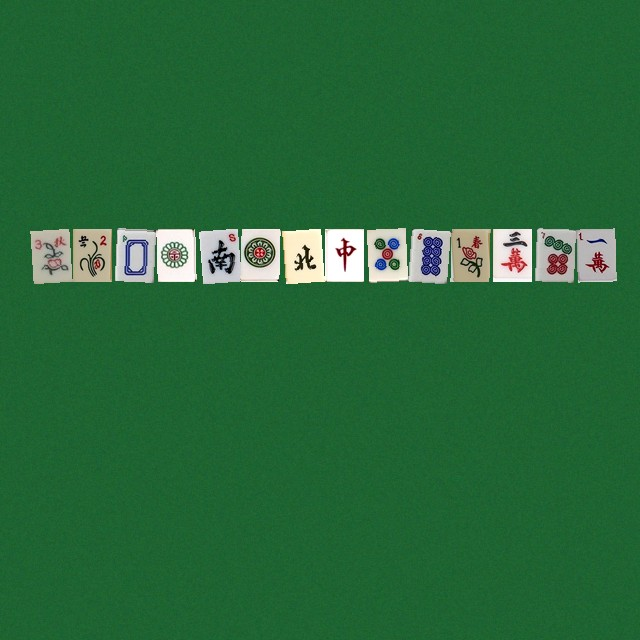tile: (30, 228, 69, 281), (72, 228, 111, 281), (114, 228, 153, 281), (156, 228, 195, 281), (198, 228, 237, 281), (240, 228, 279, 281), (282, 228, 321, 281), (324, 228, 363, 281), (366, 228, 405, 281), (408, 228, 447, 281), (450, 228, 489, 281), (492, 228, 531, 281), (534, 228, 573, 281), (576, 228, 615, 281)
